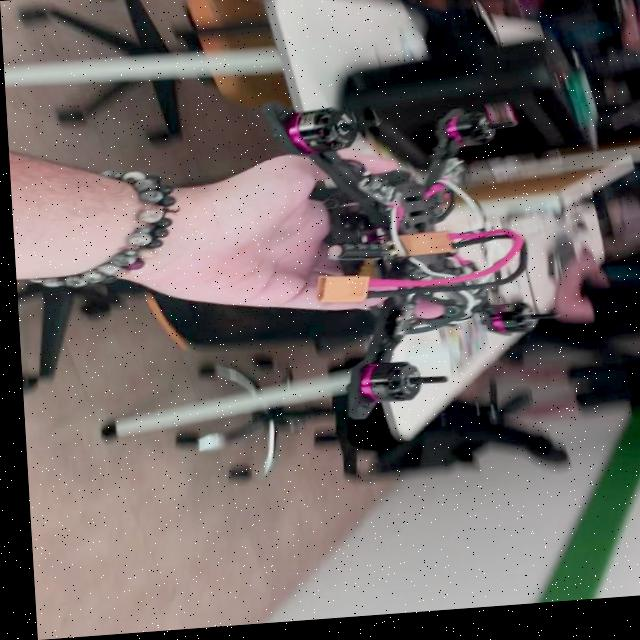drone: (273, 86, 576, 430)
